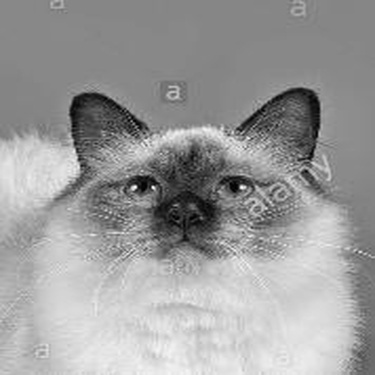cat: (8, 85, 350, 362)
